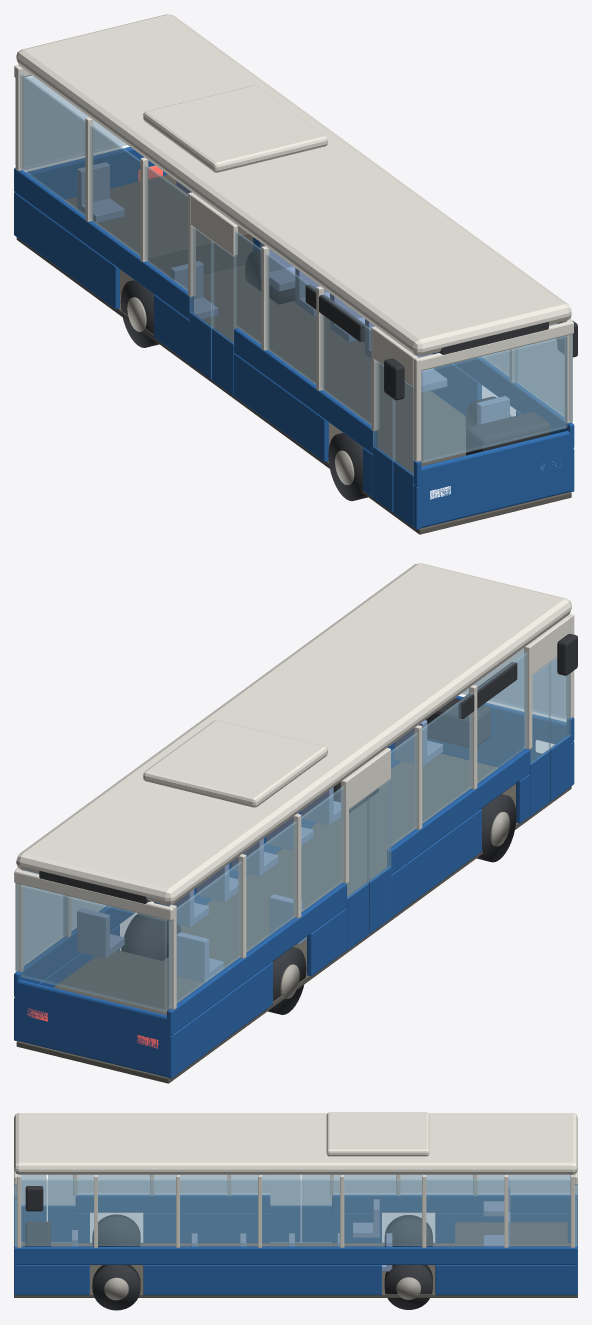
Rendered from CityBus_blockout.glb.
The picture shows the model from 3 angles, top to bottom: view 1: azimuth 30°, elevation 25°; view 2: azimuth 150°, elevation 25°; view 3: azimuth 270°, elevation 25°; orthographic projection. The views are drawn at different scales.
Visible parts, largest first — view 1: VEH02_CityBus_Roof_L0, VEH02_CityBus_Floor_L0, VEH02_CityBus_SideRGlass2_L0, VEH02_CityBus_FrontGlass_L0, VEH02_CityBus_SideRGlass1_L0, VEH02_CityBus_FrontLower_L0, VEH02_CityBus_RoofAC_L0, VEH02_CityBus_RearDeck_L0, VEH02_CityBus_SideRBand2_L0, VEH02_CityBus_RearGlass_L0, VEH02_CityBus_SideRLower2S2_L0, VEH02_CityBus_SideRLower1S2_L0 (+35 smaller); view 2: VEH02_CityBus_Roof_L0, VEH02_CityBus_Floor_L0, VEH02_CityBus_SideRGlass2_L0, VEH02_CityBus_RearGlass_L0, VEH02_CityBus_SideRGlass1_L0, VEH02_CityBus_RearLower_L0, VEH02_CityBus_RoofAC_L0, VEH02_CityBus_SideRBand2_L0, VEH02_CityBus_RearDeck_L0, VEH02_CityBus_SideRLower2S2_L0, VEH02_CityBus_SideRBand1_L0, VEH02_CityBus_SideRLower1S2_L0 (+38 smaller); view 3: VEH02_CityBus_SideLGlass0_L0, VEH02_CityBus_Roof_L0, VEH02_CityBus_SideLBand0_L0, VEH02_CityBus_SideLLower0S2_L0, VEH02_CityBus_RoofAC_L0, VEH02_CityBus_SideLLower0S4_L0, VEH02_CityBus_SideRGlass2_L0, VEH02_CityBus_SideRBand2_L0, VEH02_CityBus_SideRGlass1_L0, VEH02_CityBus_SideRLower1S2_L0, VEH02_CityBus_SideRBand1_L0, VEH02_CityBus_Floor_L0 (+31 smaller).
Boxes of the visible parts, x1,y1,x2,y2 form: VEH02_CityBus_Roof_L0: (16,14,571,355); VEH02_CityBus_Floor_L0: (16,237,571,534); VEH02_CityBus_SideRGlass2_L0: (15,74,187,290); VEH02_CityBus_FrontGlass_L0: (421,335,567,463); VEH02_CityBus_SideRGlass1_L0: (235,231,371,424); VEH02_CityBus_FrontLower_L0: (414,430,573,527); VEH02_CityBus_RoofAC_L0: (143,85,327,172); VEH02_CityBus_RearDeck_L0: (64,174,253,294); VEH02_CityBus_SideRBand2_L0: (14,167,193,319); VEH02_CityBus_RearGlass_L0: (24,75,126,169); VEH02_CityBus_SideRLower2S2_L0: (14,192,119,309); VEH02_CityBus_SideRLower1S2_L0: (234,353,328,462); VEH02_CityBus_Roof_L0: (16,563,571,904); VEH02_CityBus_Floor_L0: (16,754,571,1083); VEH02_CityBus_SideRGlass2_L0: (168,786,344,1008); VEH02_CityBus_RearGlass_L0: (20,885,167,1011); VEH02_CityBus_SideRGlass1_L0: (388,652,527,847); VEH02_CityBus_RearLower_L0: (14,979,173,1076); VEH02_CityBus_RoofAC_L0: (143,720,327,807); VEH02_CityBus_SideRBand2_L0: (167,882,346,1035); VEH02_CityBus_RearDeck_L0: (53,950,204,1015); VEH02_CityBus_SideRLower2S2_L0: (167,962,272,1078); VEH02_CityBus_SideRBand1_L0: (387,748,530,874); VEH02_CityBus_SideRLower1S2_L0: (391,809,481,917); VEH02_CityBus_SideLGlass0_L0: (14,1179,577,1245); VEH02_CityBus_Roof_L0: (14,1113,577,1174); VEH02_CityBus_SideLBand0_L0: (14,1246,577,1264); VEH02_CityBus_SideLLower0S2_L0: (143,1265,381,1295); VEH02_CityBus_RoofAC_L0: (326,1112,429,1156); VEH02_CityBus_SideLLower0S4_L0: (435,1265,577,1295); VEH02_CityBus_SideRGlass2_L0: (334,1174,577,1193); VEH02_CityBus_SideRBand2_L0: (332,1195,577,1212); VEH02_CityBus_SideRGlass1_L0: (77,1174,270,1193); VEH02_CityBus_SideRLower1S2_L0: (143,1213,269,1242); VEH02_CityBus_SideRBand1_L0: (76,1195,269,1212); VEH02_CityBus_Floor_L0: (14,1243,577,1297).
Bounding box in the file's own units: 2.89 × 3.3 × 11.
